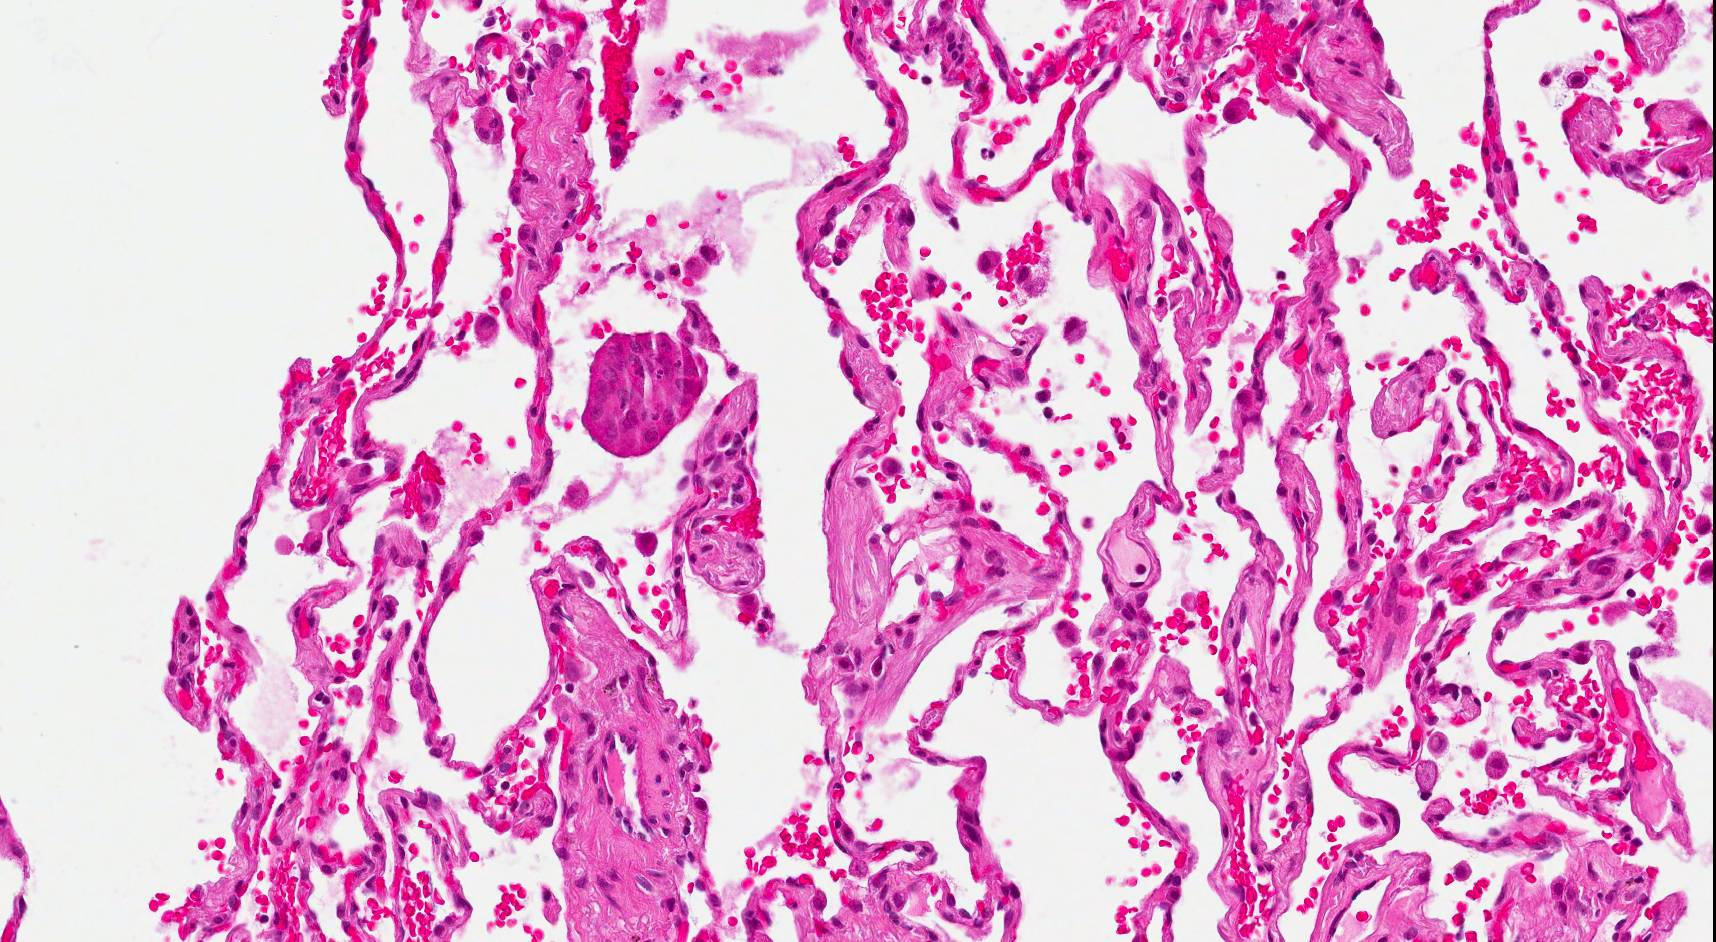stas: (585, 325, 706, 460)
